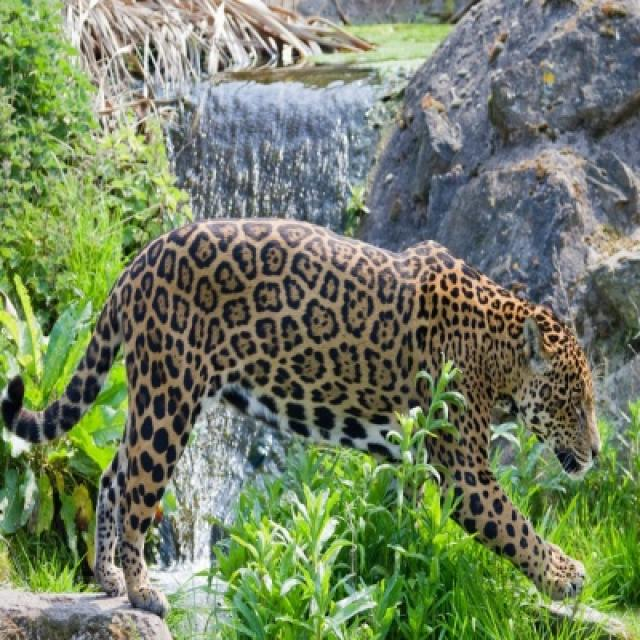Jaguar: (37, 218, 602, 616)
